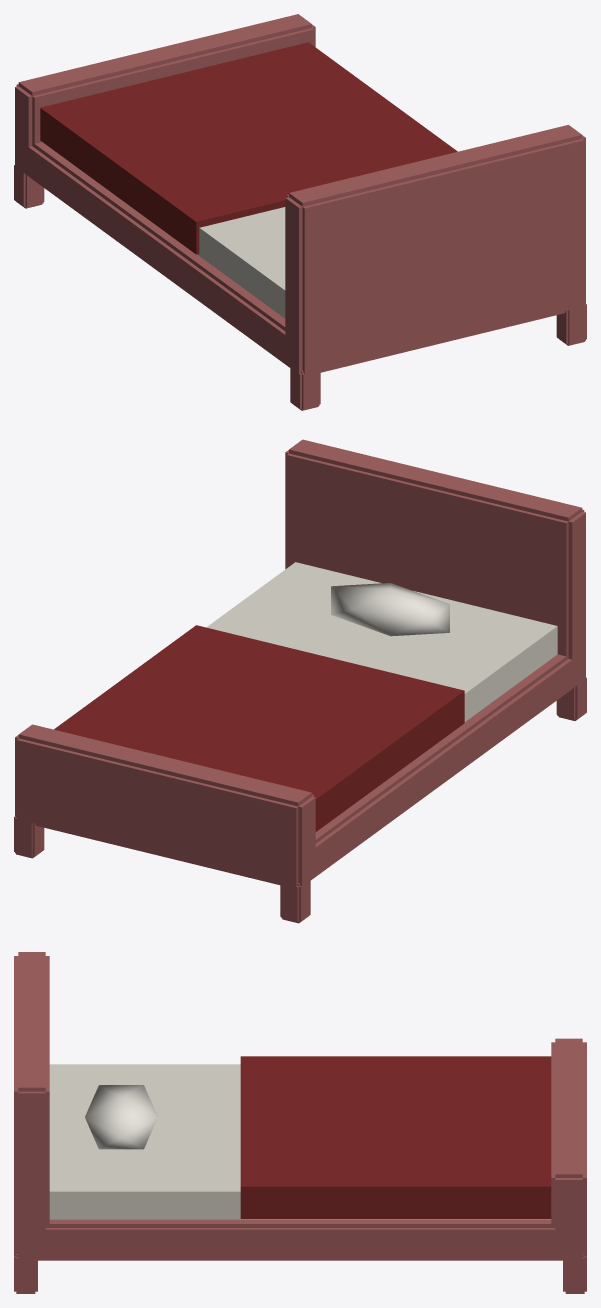
The model's file is shadewood_bed_v0.glb.
The picture shows the model from 3 angles, top to bottom: view 1: azimuth 30°, elevation 25°; view 2: azimuth 150°, elevation 25°; view 3: azimuth 270°, elevation 25°; orthographic projection.
Visible parts, largest first — view 1: shadewood_bed_v0; view 2: shadewood_bed_v0; view 3: shadewood_bed_v0.
Boxes of the visible parts, x1,y1,x2,y2 form: shadewood_bed_v0: (14,14,586,410); shadewood_bed_v0: (14,439,586,923); shadewood_bed_v0: (14,952,586,1293).
Bounding box in the file's own units: 1.38 × 0.95 × 2.4.
